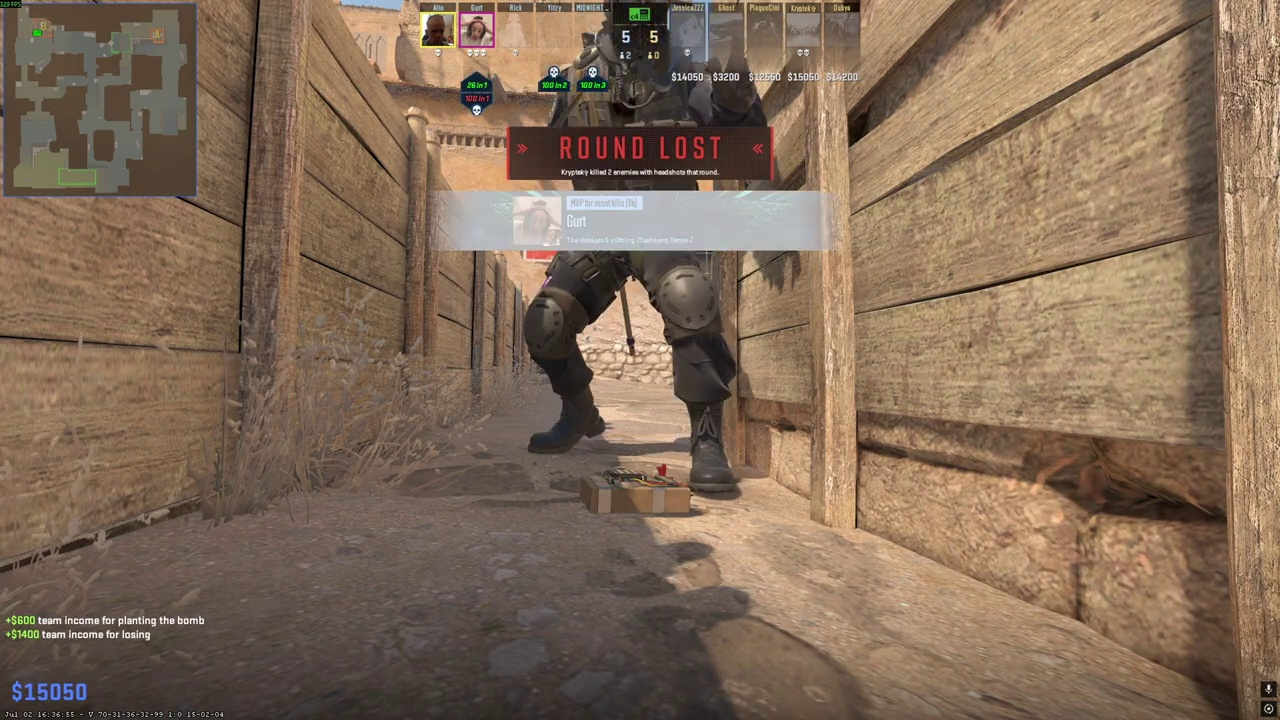CT: (524, 1, 766, 488)
